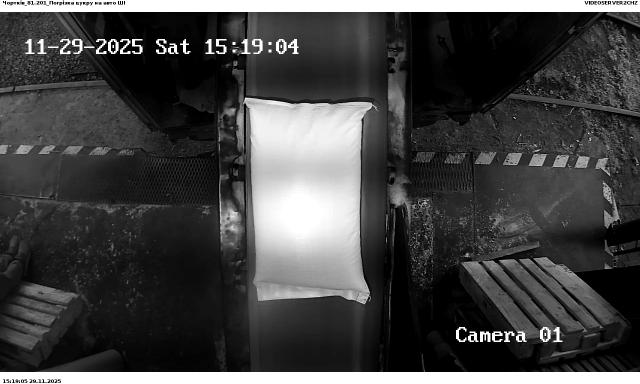bag: (245, 97, 373, 305)
